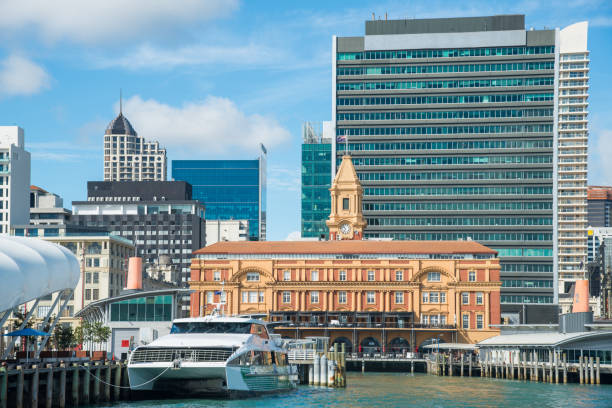ferry: (126, 301, 298, 398)
